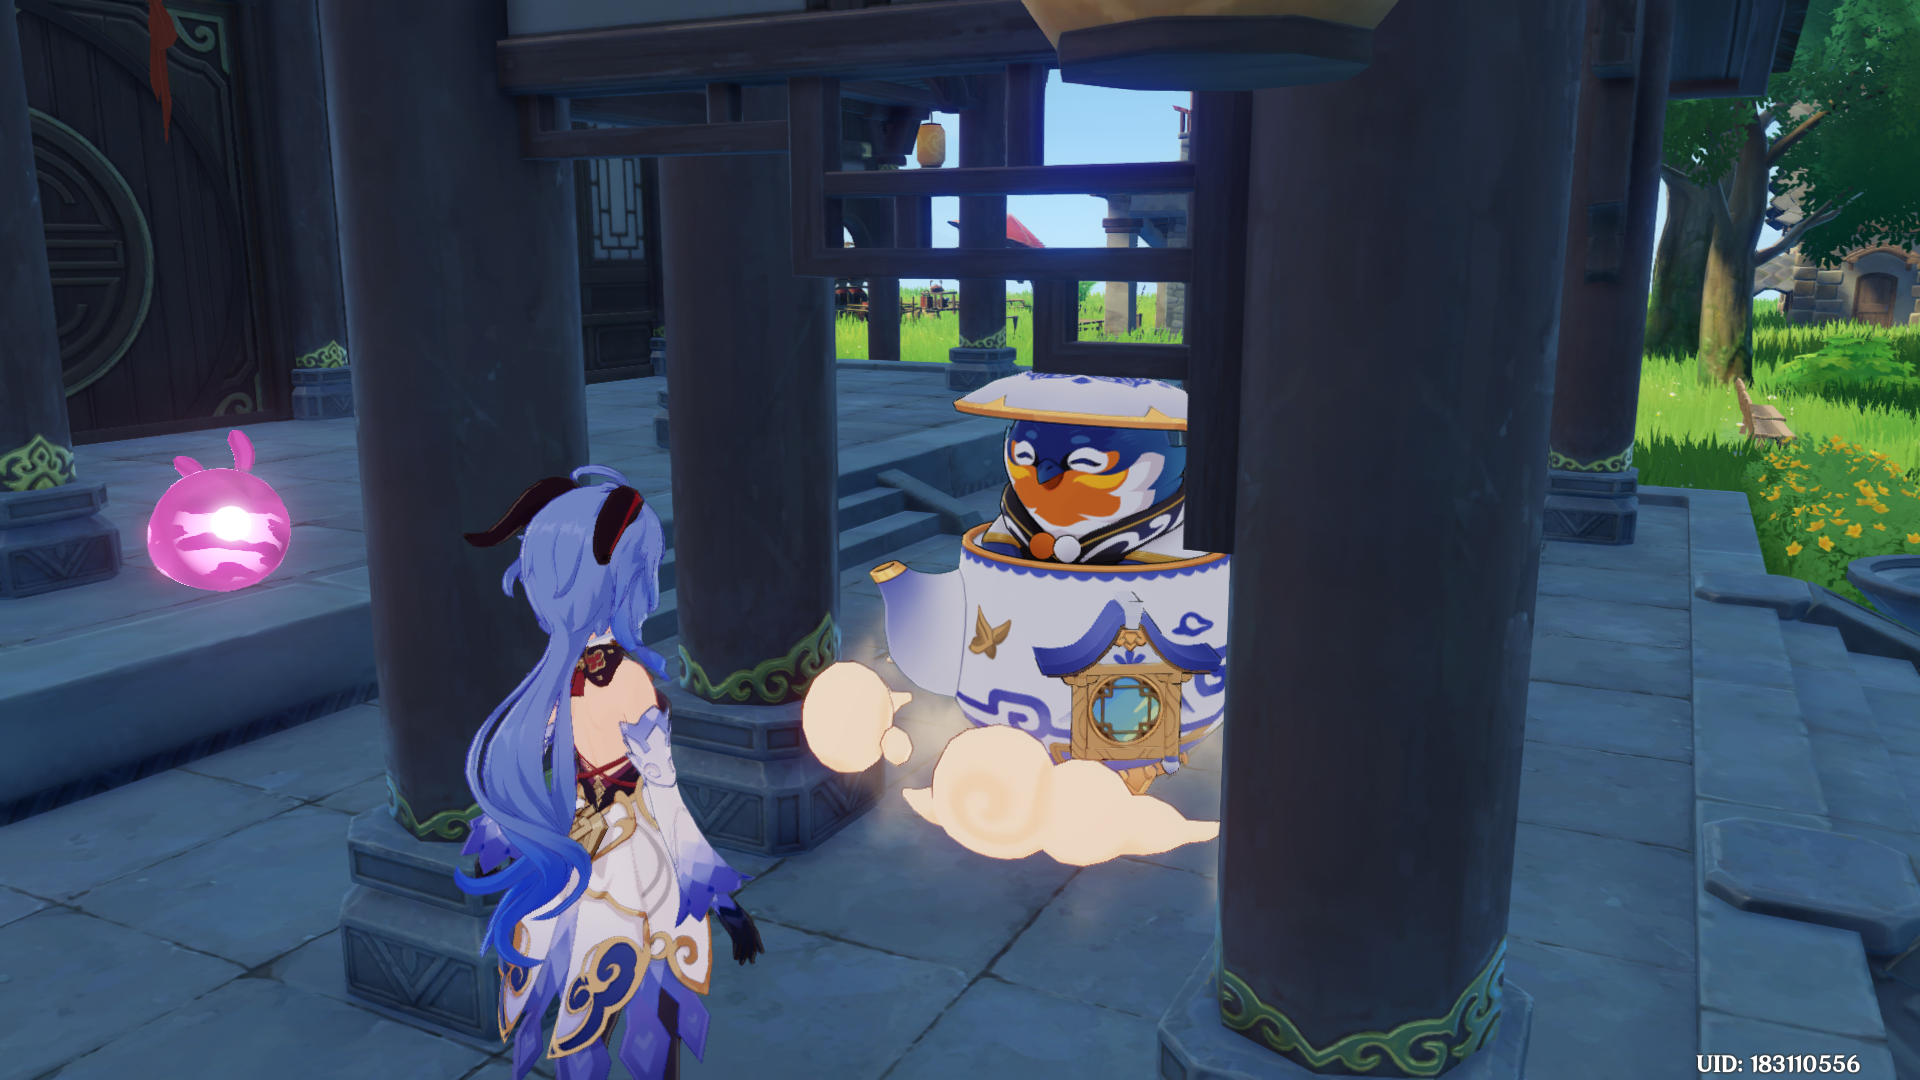character: (368, 444, 815, 1080)
